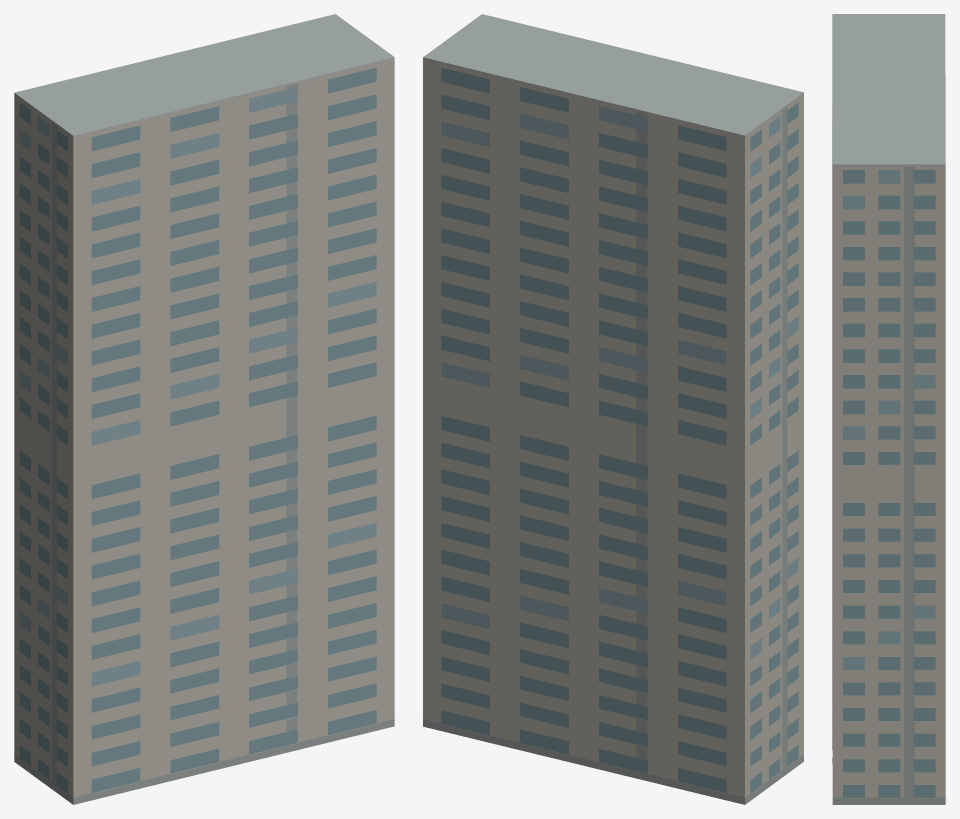
The model's file is residential-1ae257ca-bdec-425c-825f-febaf6dce235.glb.
3 renders of one model, left to right at view 1: azimuth 30°, elevation 25°; view 2: azimuth 150°, elevation 25°; view 3: azimuth 270°, elevation 25°, orthographic. The views are drawn at different scales.
Visible parts, largest first — view 1: residential-1ae257ca-bdec-425c-825f-febaf6dce235.tmp; view 2: residential-1ae257ca-bdec-425c-825f-febaf6dce235.tmp; view 3: residential-1ae257ca-bdec-425c-825f-febaf6dce235.tmp.
Part boxes in pixels (x1,y1,x2,y2): residential-1ae257ca-bdec-425c-825f-febaf6dce235.tmp: (14, 14, 394, 804); residential-1ae257ca-bdec-425c-825f-febaf6dce235.tmp: (423, 14, 803, 804); residential-1ae257ca-bdec-425c-825f-febaf6dce235.tmp: (832, 14, 945, 804).
Size of the model in its own units: 35.24 by 70 by 11.27.
